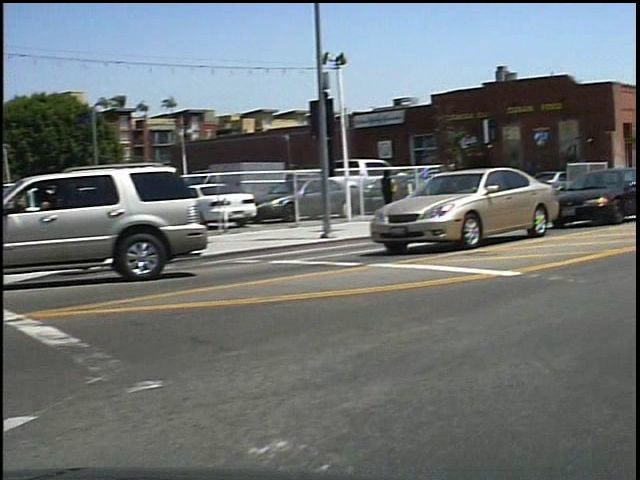person: (383, 168, 409, 228)
